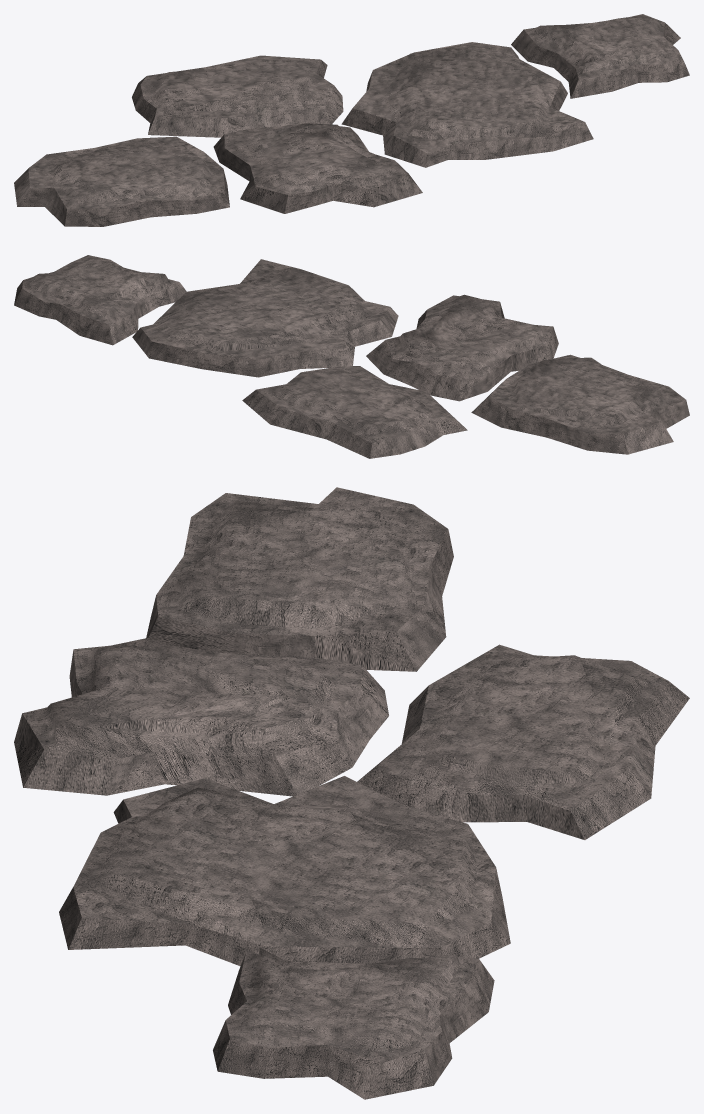
File: FlatRockGroup.FBX
3 renders of one model, top to bottom at view 1: azimuth 30°, elevation 25°; view 2: azimuth 150°, elevation 25°; view 3: azimuth 270°, elevation 25°, orthographic. The views are drawn at different scales.
Parts seen in each view (by area): view 1: FlatRock4, FlatRock2, FlatRock1, FlatRock3, FlatRock5; view 2: FlatRock4, FlatRock2, FlatRock1, FlatRock3, FlatRock5; view 3: FlatRock4, FlatRock3, FlatRock2, FlatRock1, FlatRock5.
Boxes of the visible parts, x1,y1,x2,y2 form: FlatRock4: (341,42,593,167); FlatRock2: (14,136,229,226); FlatRock1: (132,55,343,137); FlatRock3: (213,122,422,213); FlatRock5: (511,14,689,98); FlatRock4: (132,259,398,377); FlatRock2: (471,354,689,454); FlatRock1: (242,366,467,458); FlatRock3: (366,294,558,401); FlatRock5: (14,255,186,345); FlatRock4: (59,776,510,966); FlatRock3: (14,637,388,796); FlatRock2: (146,487,453,671); FlatRock1: (357,644,689,839); FlatRock5: (213,947,494,1099).
Size of the model in its own units: 451 by 18.44 by 217.
Materials: 1 (1 with a texture image).
